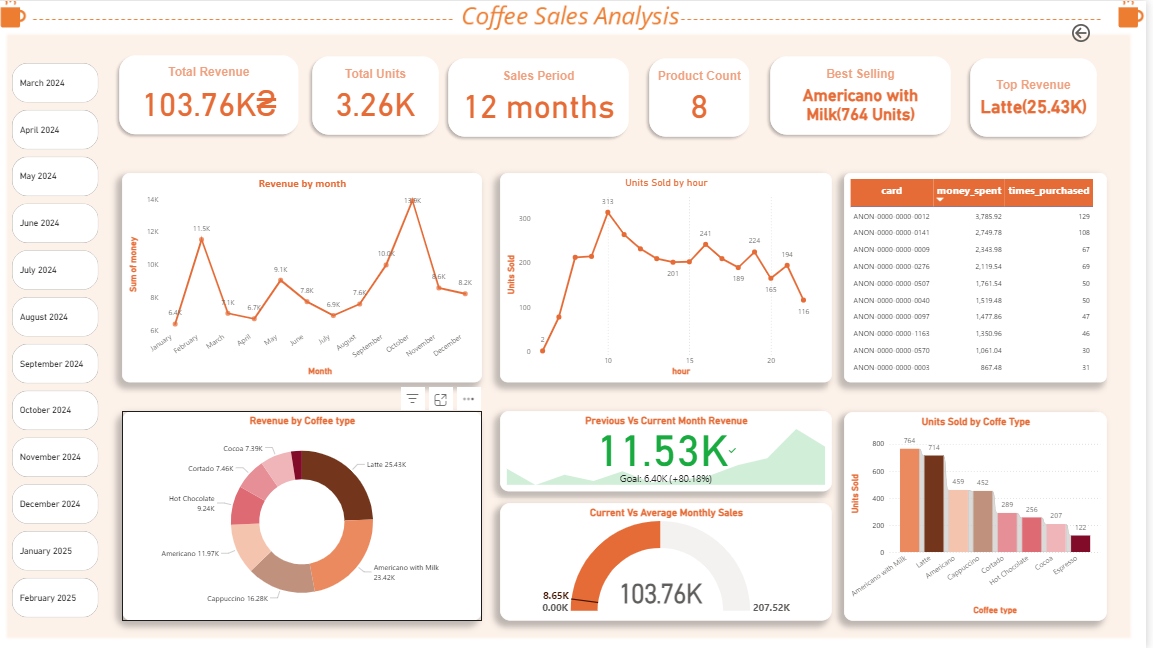

What the dashboard file says about the page in this screenshot:
{"tool":"powerbi","page":{"name":"Page 1","canvas":[1920,1080],"ordinal":0},"visuals":[{"type":"lineChart","title":"Revenue by month","fields":{"Y":["Sum(product_performance_analysis (3).money)"],"Category":["product_performance_analysis (3).month.Variation.Date Hierarchy.Month"]},"box":[213,287.4,599.6,348.7],"z":0},{"type":"lineChart","fields":{"Y":["Sum(peak_hour_sales.sales)"],"Category":["peak_hour_sales.hour"]},"box":[843.3,287.4,552.9,348.7],"z":1000},{"type":"donutChart","title":"Revenue by Coffee type","fields":{"Category":["coffeesalesproject.coffee_name"],"Y":["Sum(coffeesalesproject.money)"]},"box":[213,682.8,599.6,350.2],"z":2000},{"type":"cardVisual","fields":{"Data":["coffeesalesproject.Total Revenue"]},"box":[191.7,73.3,333.3,166.7],"z":3000},{"type":"cardVisual","fields":{"Data":["coffeesalesproject.Total Units"]},"box":[513.3,75,245,165],"z":4000},{"type":"cardVisual","fields":{"Data":["coffeesalesproject.Sales Period"]},"box":[740,78.3,335,165],"z":5000},{"type":"cardVisual","fields":{"Data":["coffeesalesproject.Product Count"]},"box":[1075,78.3,201.7,165],"z":6000},{"type":"gauge","title":"Current Vs Average Monthly Sales","fields":{"TargetValue":["Avg(product_performance_analysis (3).avgmonthlysales)"],"Y":["Sum(product_performance_analysis (3).money)"]},"box":[843.3,837.4,552.9,195.5],"z":8000},{"type":"kpi","title":"Previous Vs Current Month Revenue","fields":{"Indicator":["Sum(product_performance_analysis (3).money)"],"Goal":["Sum(product_performance_analysis (3).prevmonthsales)"],"TrendLine":["product_performance_analysis (3).monthly_comparison"]},"box":[843.3,682.8,552.9,134.2],"z":9000},{"type":"advancedSlicerVisual","fields":{"Values":["product_performance_analysis (3).month"]},"box":[24.8,97.8,154.7,935.2],"z":10000},{"type":"tableEx","fields":{"Values":["topcustomers.card","topcustomers.money_spent","topcustomers.times_purchased"]},"box":[1416.7,287.4,437.7,348.7],"z":11000},{"type":"actionButton","box":[1791.7,33.3,80,40],"z":12000},{"type":"columnChart","title":"Units Sold by Coffe Type","fields":{"Category":["coffeesalesproject.coffee_name"],"Y":["CountNonNull(coffeesalesproject.coffee_name)"]},"box":[1416.7,685,438.3,348.3],"z":13000},{"type":"cardVisual","fields":{"Data":["coffeesalesproject.Top Revenue"]},"box":[1610,78.3,245,165],"z":13001},{"type":"cardVisual","fields":{"Data":["coffeesalesproject.Best Selling"]},"box":[1276.7,75,335,165],"z":13002}]}

Visuals, with their boxes in screenshot pixels (x1, y1, x2, y2), scaled from the page's 1920x1080 canvas onto the 1153x648 screenshot:
"Revenue by month" lineChart: 128,172,488,382
lineChart - Sum(peak_hour_sales.sales) x peak_hour_sales.hour: 506,172,838,382
"Revenue by Coffee type" donutChart: 128,410,488,620
cardVisual - coffeesalesproject.Total Revenue: 115,44,315,144
cardVisual - coffeesalesproject.Total Units: 308,45,455,144
cardVisual - coffeesalesproject.Sales Period: 444,47,646,146
cardVisual - coffeesalesproject.Product Count: 646,47,767,146
"Current Vs Average Monthly Sales" gauge: 506,502,838,620
"Previous Vs Current Month Revenue" kpi: 506,410,838,490
advancedSlicerVisual - product_performance_analysis (3).month: 15,59,108,620
tableEx - topcustomers.card x topcustomers.money_spent: 851,172,1114,382
actionButton: 1076,20,1124,44
"Units Sold by Coffe Type" columnChart: 851,411,1114,620
cardVisual - coffeesalesproject.Top Revenue: 967,47,1114,146
cardVisual - coffeesalesproject.Best Selling: 767,45,968,144
